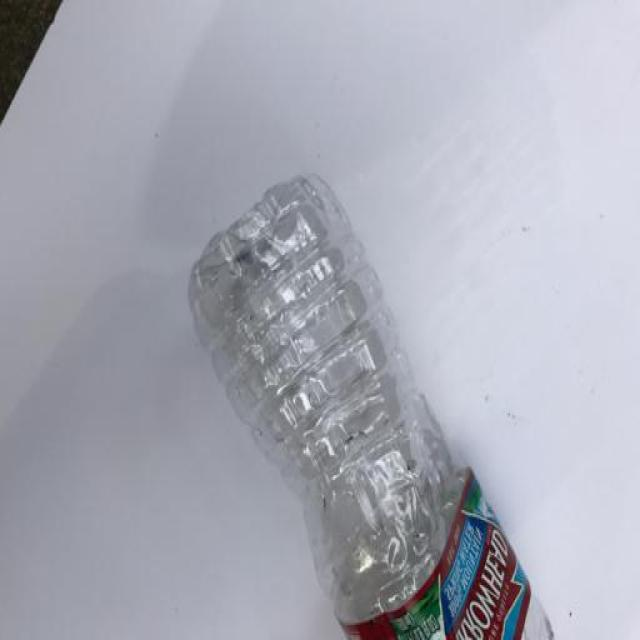plastic: (182, 168, 558, 640)
